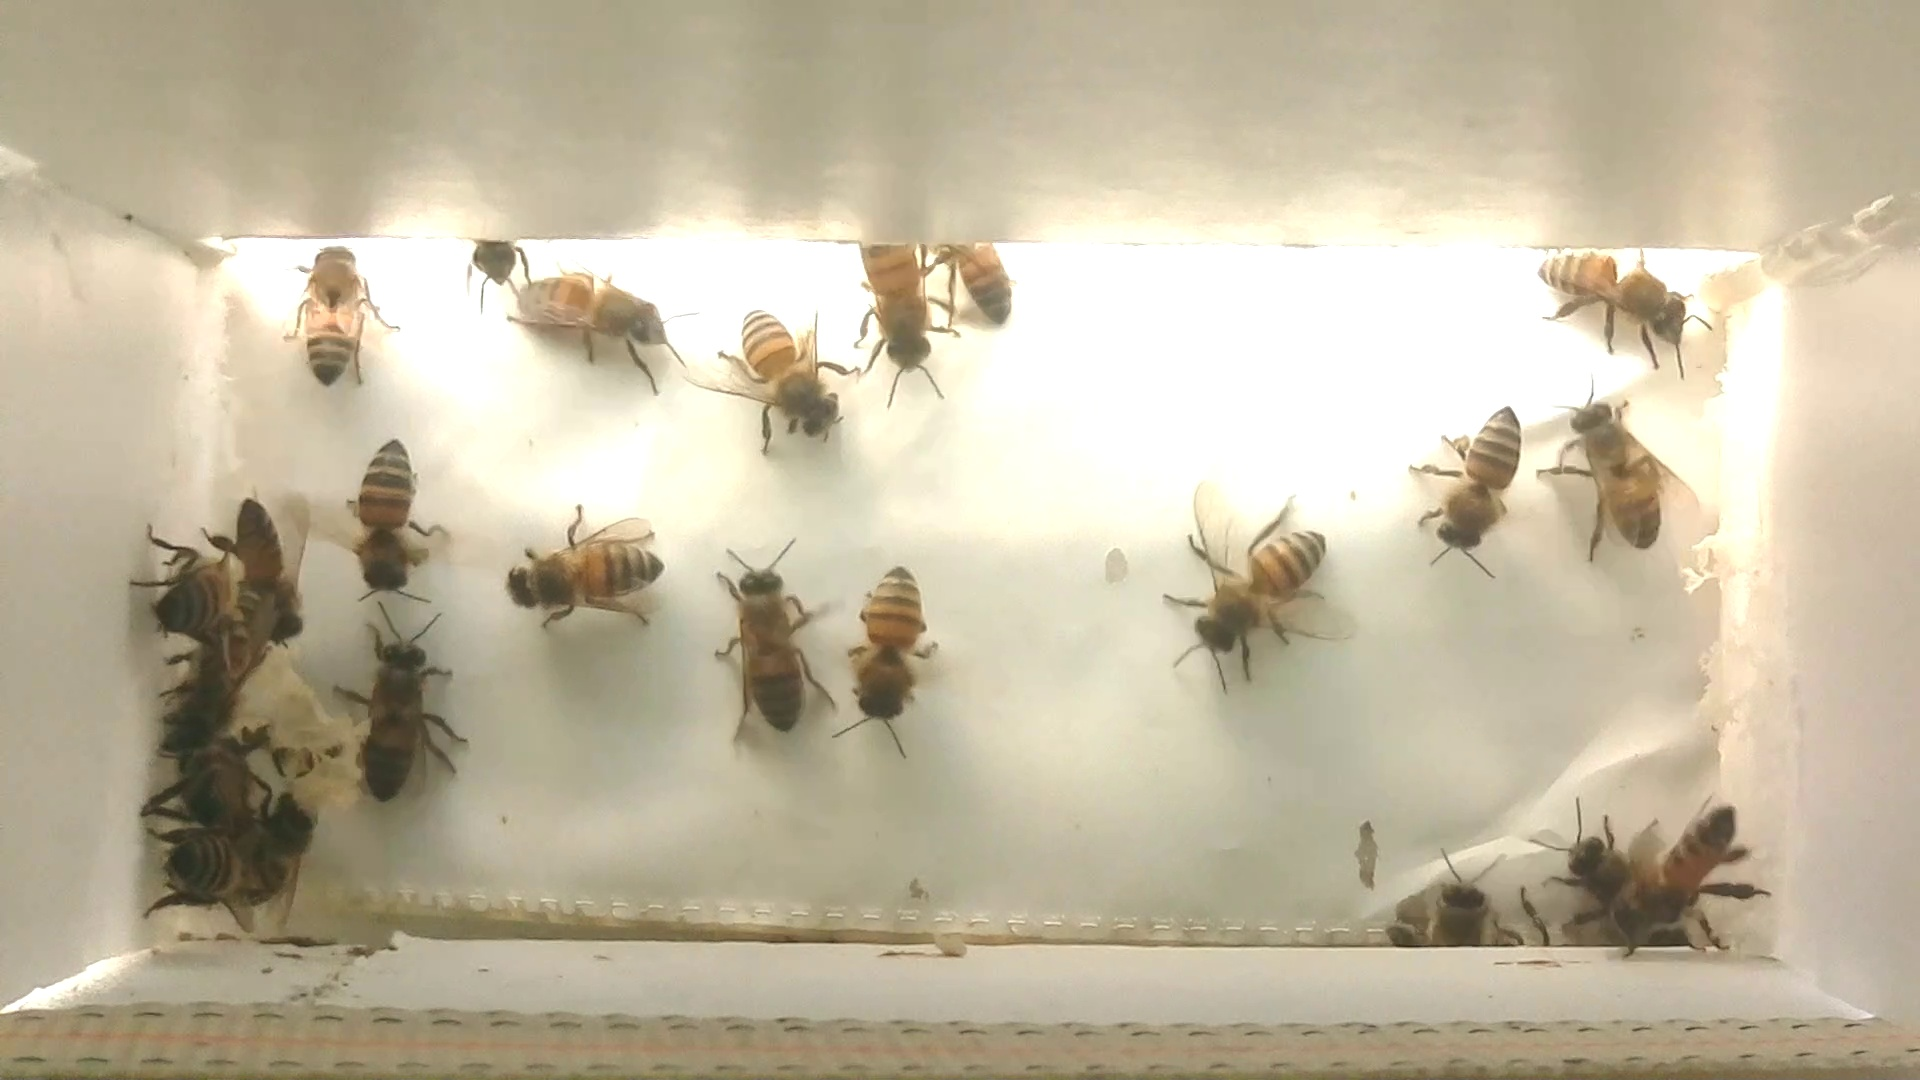bee: (1149, 473, 1364, 705), (1375, 390, 1549, 597), (680, 530, 840, 753), (324, 595, 481, 820), (1531, 380, 1700, 588), (690, 290, 868, 463), (1604, 793, 1784, 963), (315, 418, 468, 615), (1530, 229, 1714, 388), (500, 491, 679, 650), (495, 265, 690, 406), (824, 546, 945, 764), (1526, 794, 1684, 955), (270, 228, 404, 396), (839, 228, 953, 411), (1404, 836, 1543, 973), (219, 485, 319, 658), (136, 514, 248, 663), (129, 803, 258, 928), (924, 223, 1048, 351), (140, 678, 249, 800), (237, 781, 323, 931), (454, 214, 545, 303)
